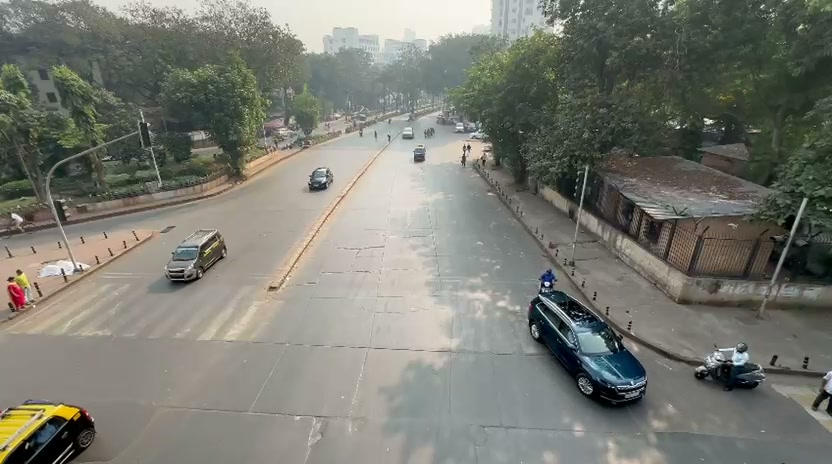car: (526, 288, 649, 406), (0, 400, 96, 463), (164, 228, 227, 283), (696, 353, 767, 390), (37, 259, 91, 280), (308, 167, 333, 190), (412, 145, 425, 162), (401, 127, 413, 140)
motorcycle: (697, 354, 767, 390)
pedestrian: (812, 369, 832, 412), (6, 275, 29, 312), (538, 268, 557, 292), (733, 341, 748, 368), (461, 143, 470, 166)
